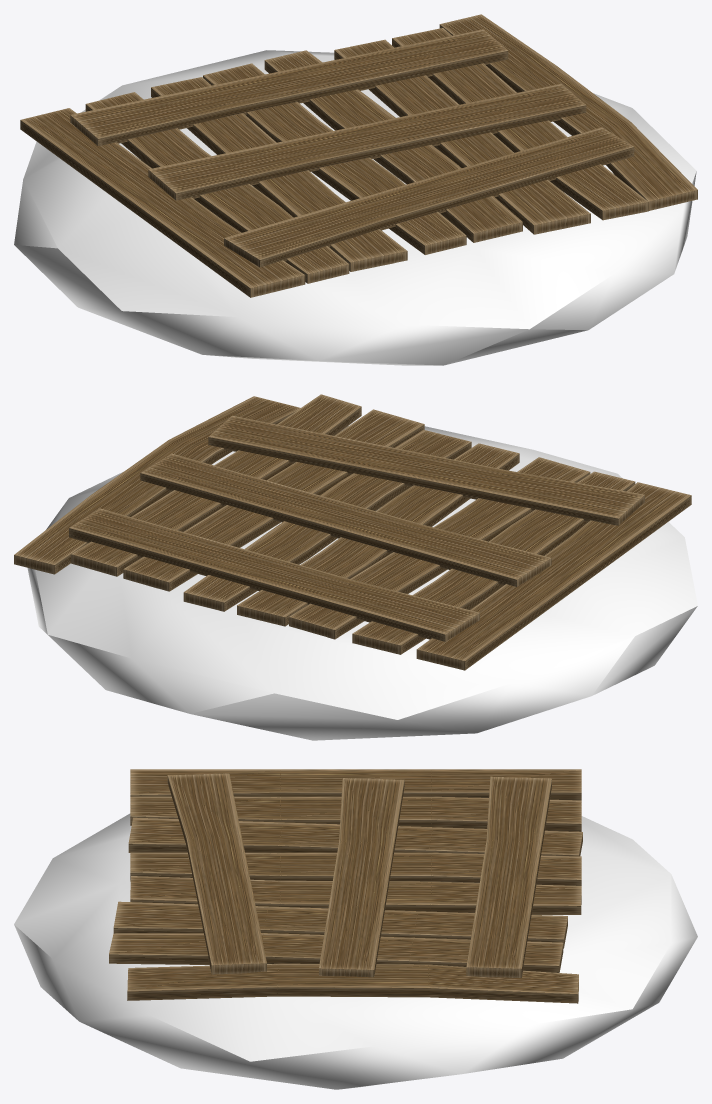
File: platform rock-wood.fbx
The picture shows the model from 3 angles, top to bottom: view 1: azimuth 30°, elevation 25°; view 2: azimuth 150°, elevation 25°; view 3: azimuth 270°, elevation 25°; orthographic projection. The views are drawn at different scales.
Visible parts, largest first — view 1: Default_Layer; view 2: Default_Layer; view 3: Default_Layer.
Part boxes in pixels (bbox=[...]): Default_Layer: bbox=[14, 14, 697, 365]; Default_Layer: bbox=[14, 394, 697, 740]; Default_Layer: bbox=[14, 769, 697, 1089].
Size of the model in its own units: 758 by 142 by 797.
